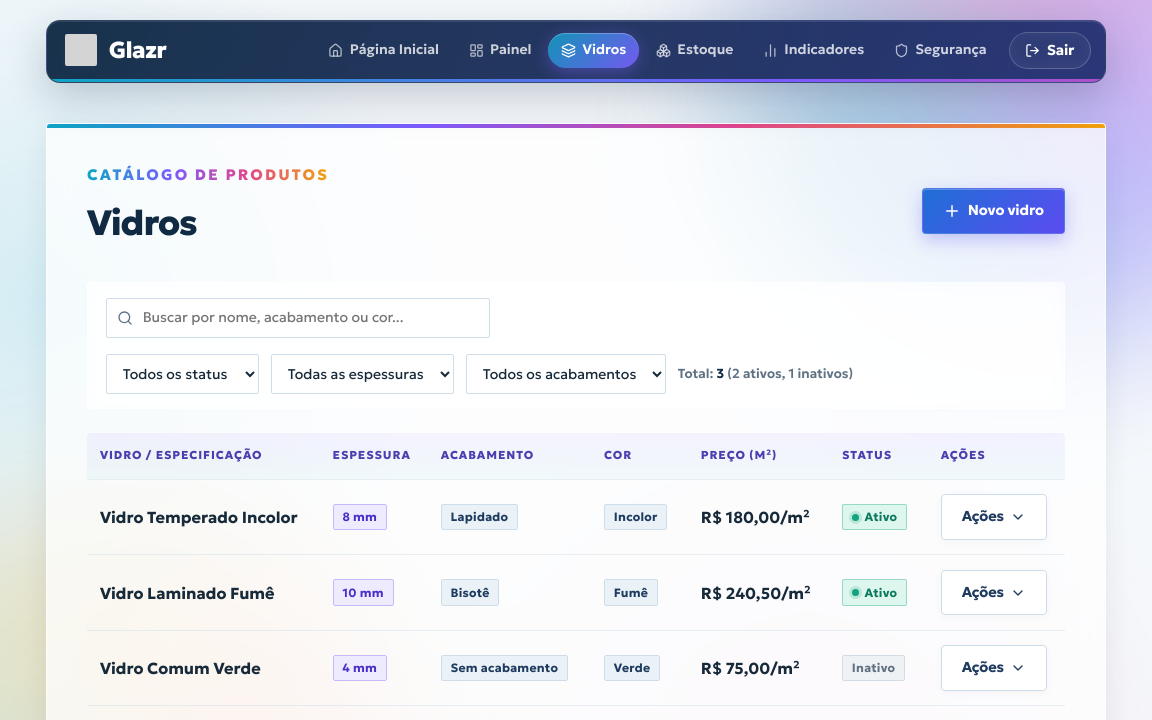
it: lista vidros com contadores, busca em tempo real e filtros de espessura e acabamento
This screenshot has width=1152, height=720.
Check: the text "Vidro Temperado Incolor" is shown, box [100,507,298,527]
Check: the text "Vidro Laminado Fumê" is shown, box [100,582,275,602]
# Testa busca
Type "Fumê" into the search field with placeholder "Buscar por nome, acabamento ou cor...".
click(298, 318); type("Fumê")  # box [106,298,490,338]
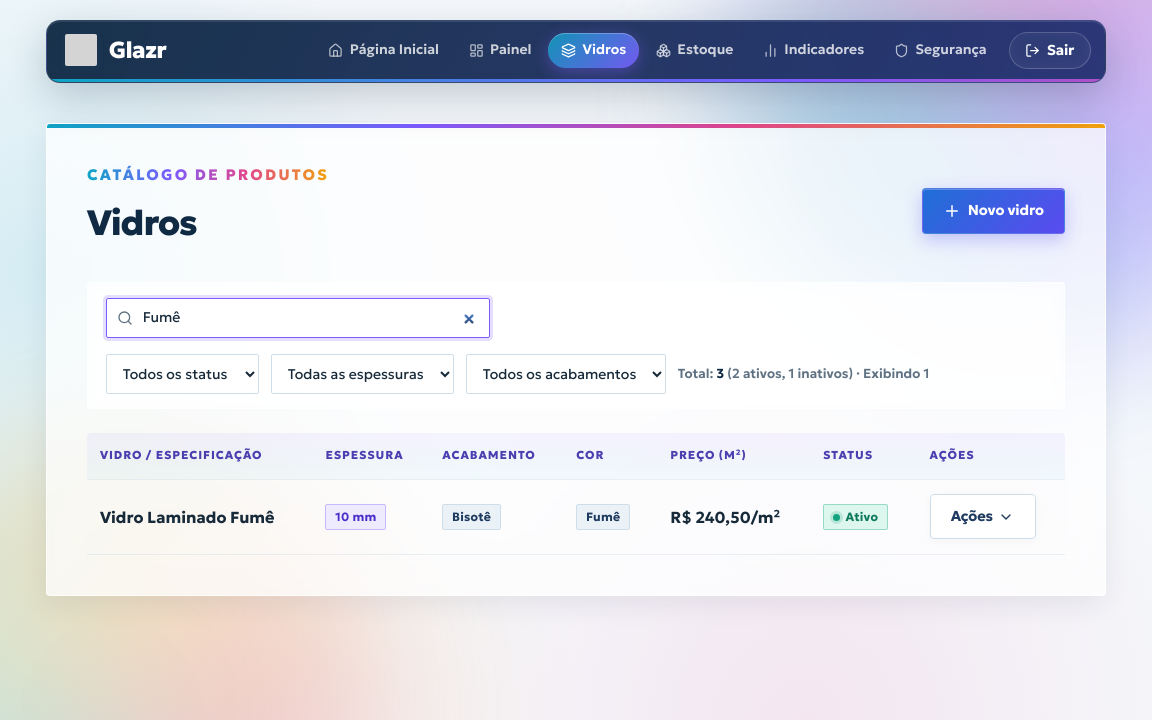
Check: the text "Vidro Laminado Fumê" is shown, box [100,507,275,527]
Check: the text "Vidro Temperado Incolor" is gone
# Limpa busca
Clear the search field with placeholder "Buscar por nome, acabamento ou cor..." at (298, 318), box [106,298,490,338]
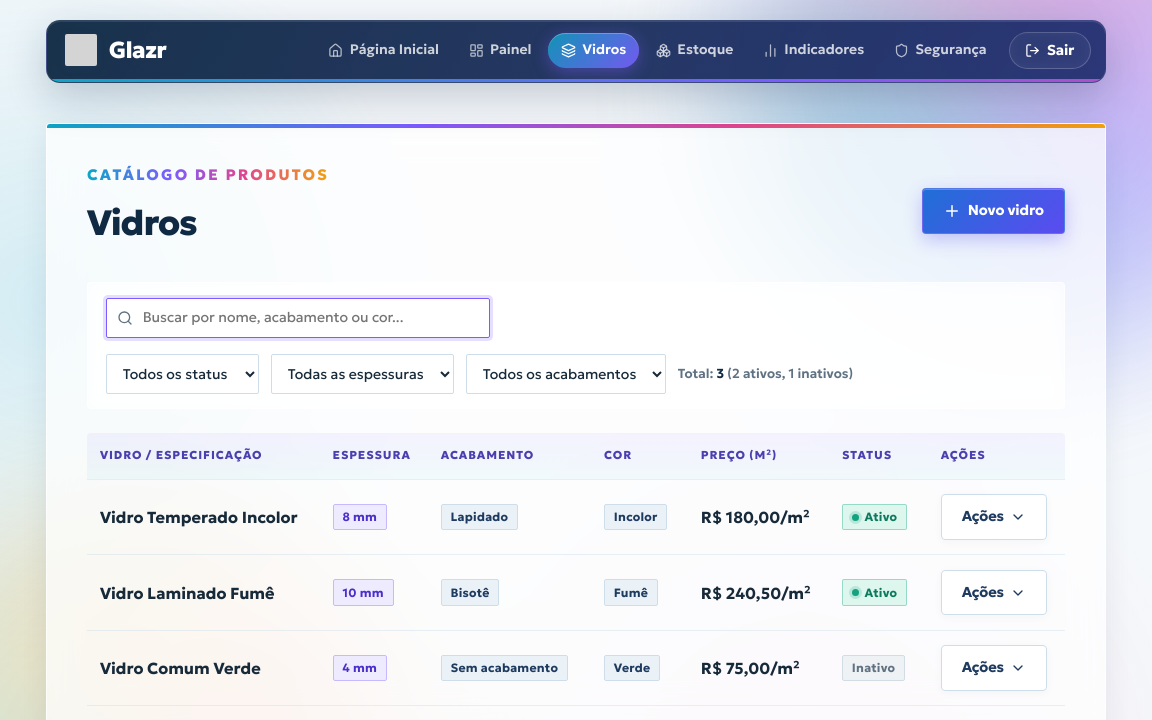
# Testa filtro por espessura
Select "8 mm" in the dropdown named "Filtrar por espessura" at (362, 374), box [271,354,454,394]
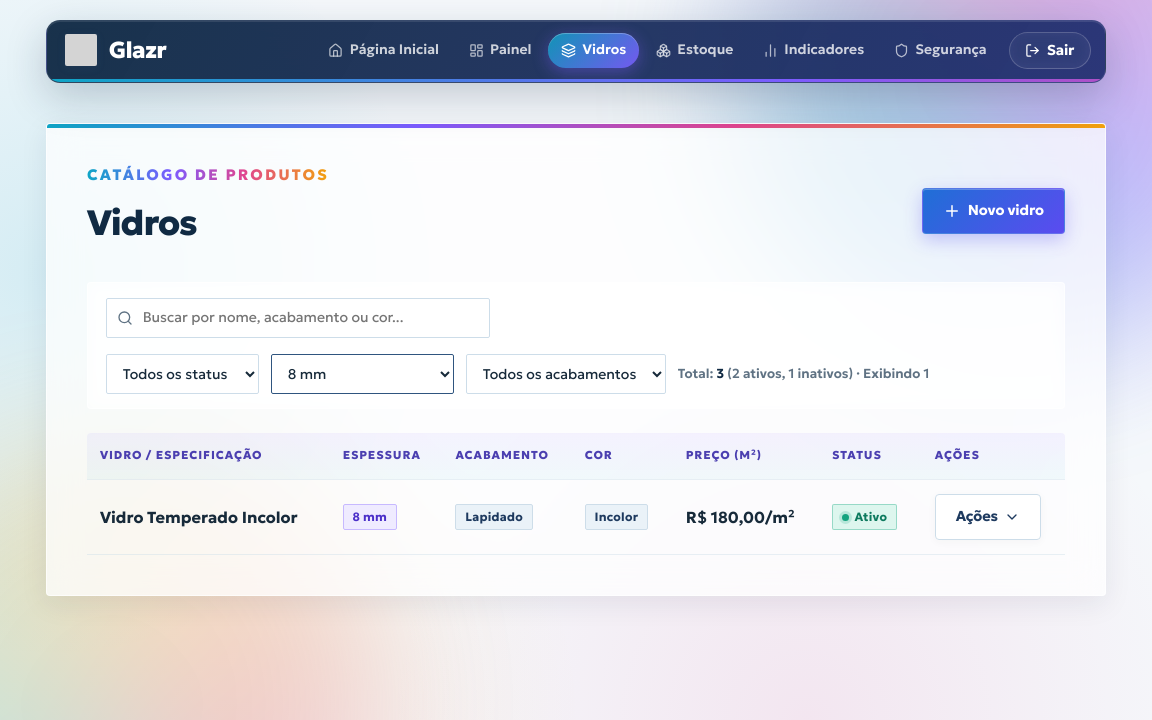
Check: the text "Vidro Temperado Incolor" is shown, box [100,507,298,527]
Check: the text "Vidro Laminado Fumê" is gone
# Reseta espessura e filtra por status
Select "Todas as espessuras" in the dropdown named "Filtrar por espessura" at (362, 374), box [271,354,454,394]
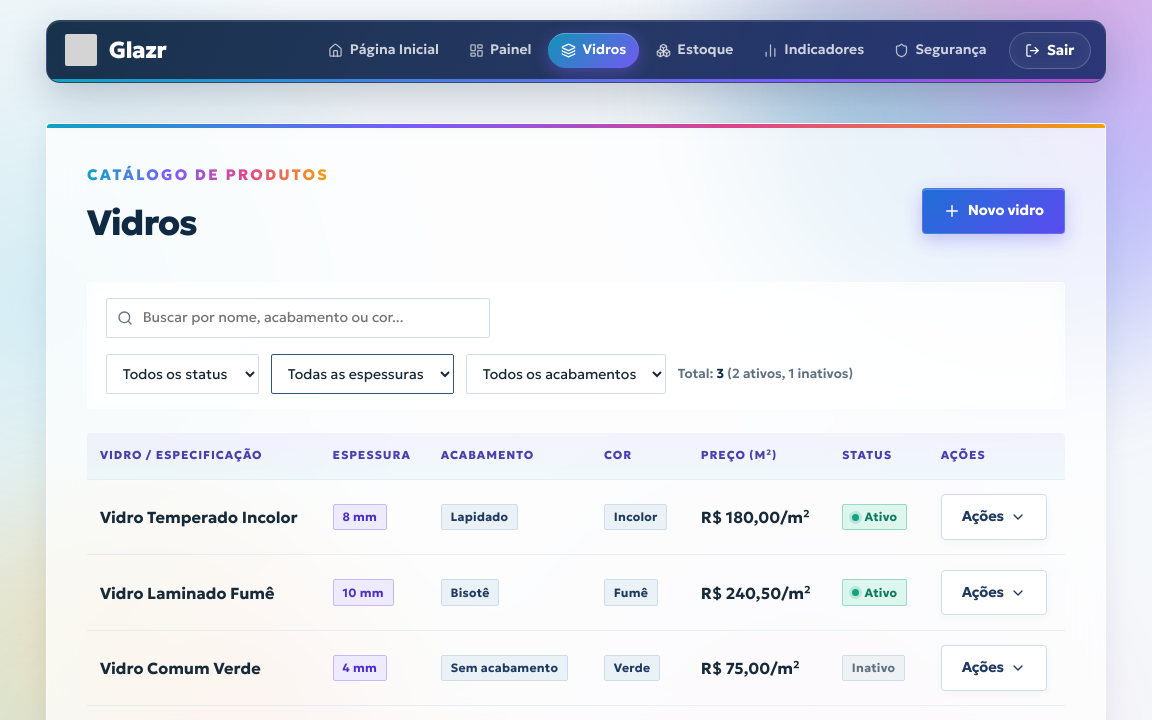
Select "Apenas inativos" in the dropdown named "Filtrar por status" at (182, 374), box [106,354,259,394]
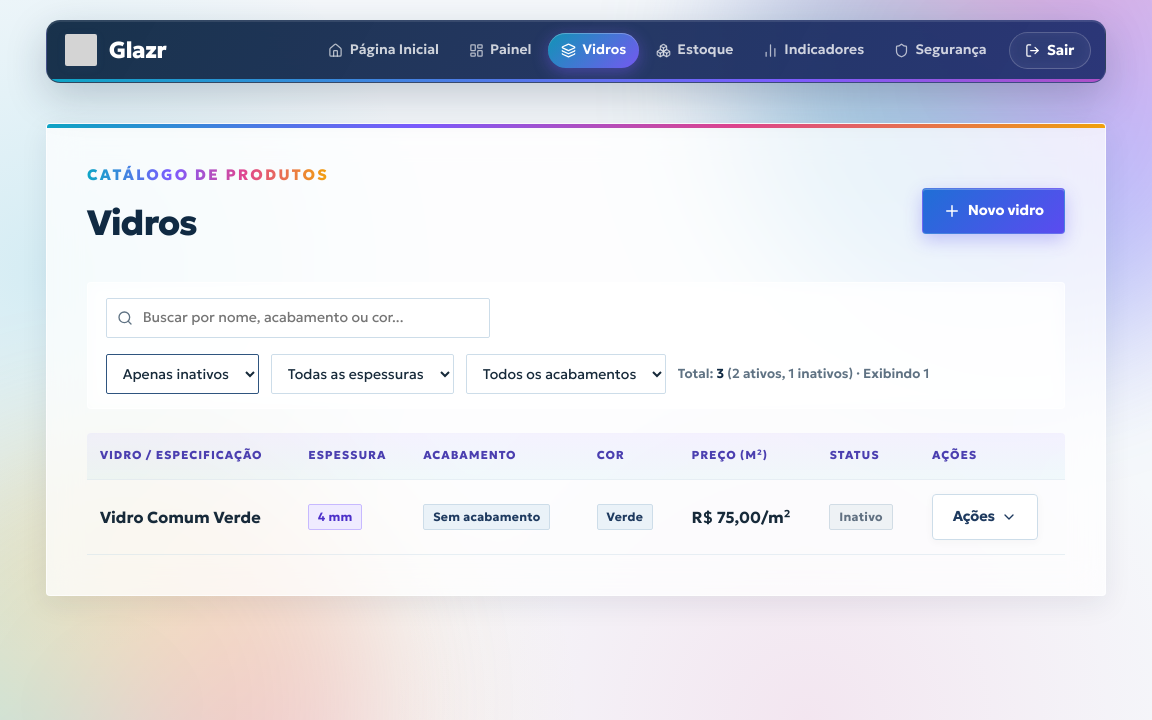
Check: the text "Vidro Comum Verde" is shown, box [100,507,261,527]
Check: the text "Vidro Temperado Incolor" is gone
